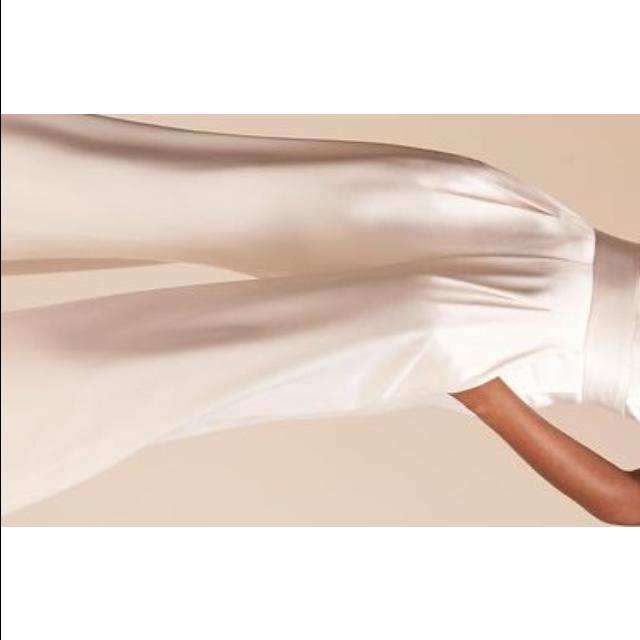silk: (0, 114, 640, 526)
